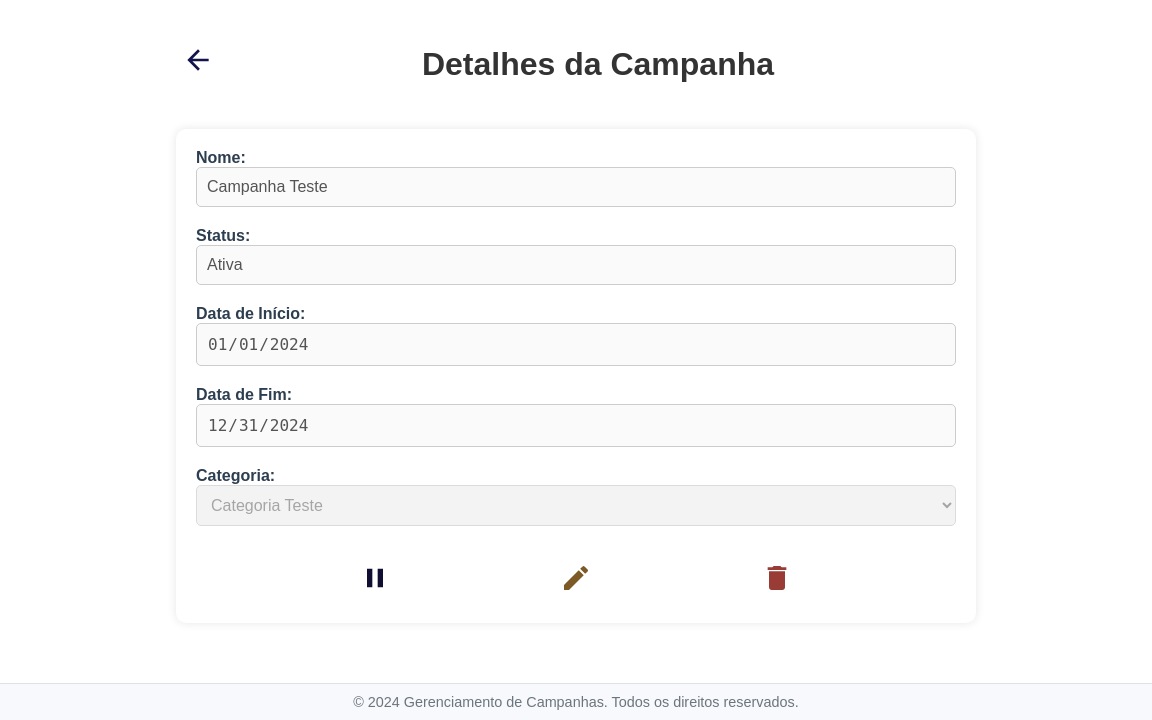
it: Detalhes da Campanha › permite alternar entre modos de edição e visualização
(page scrolled)
Click the button named "Editar": (576, 582) [554,561,598,603]
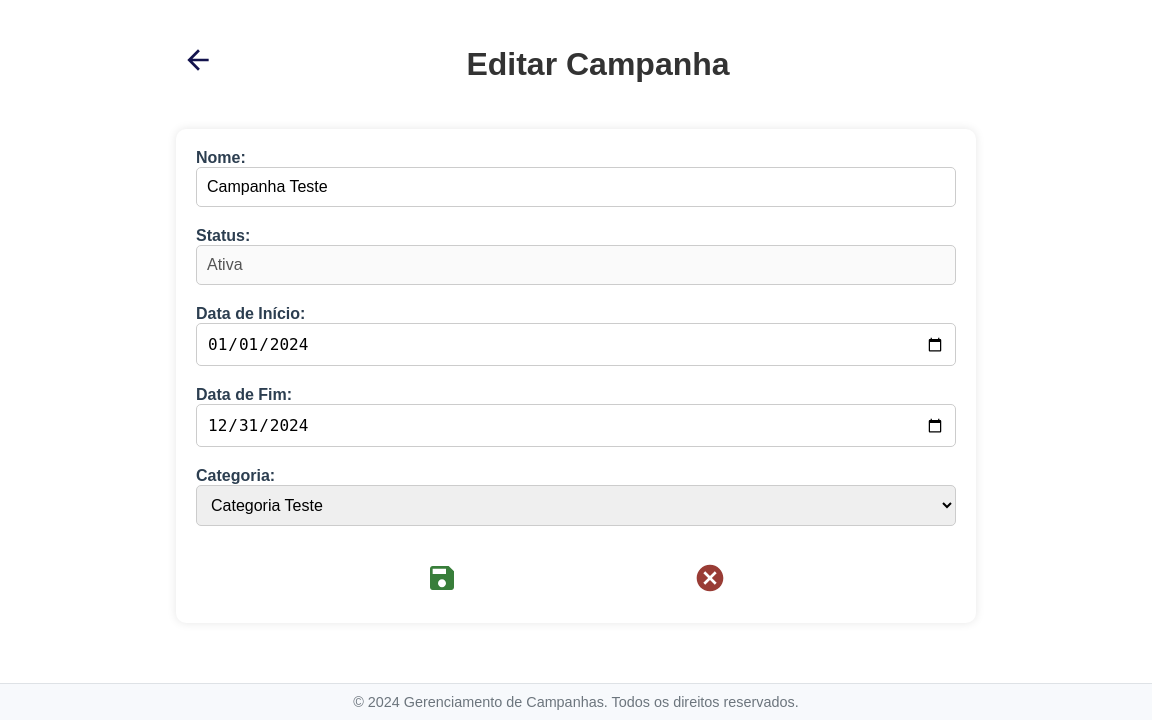
Check: the field labelled "Nome:" is enabled, box [196,167,956,207]
Click the button named "Cancelar": (710, 582) [688,561,732,603]
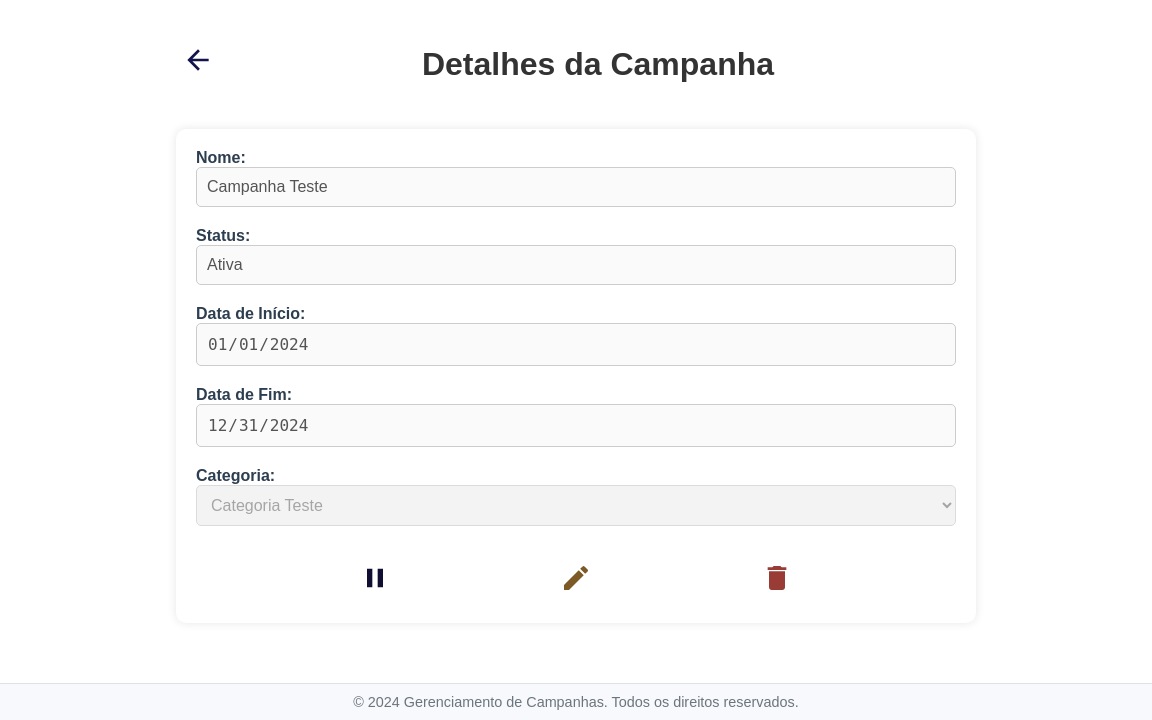
Check: the field labelled "Nome:" is disabled, box [196,167,956,207]
